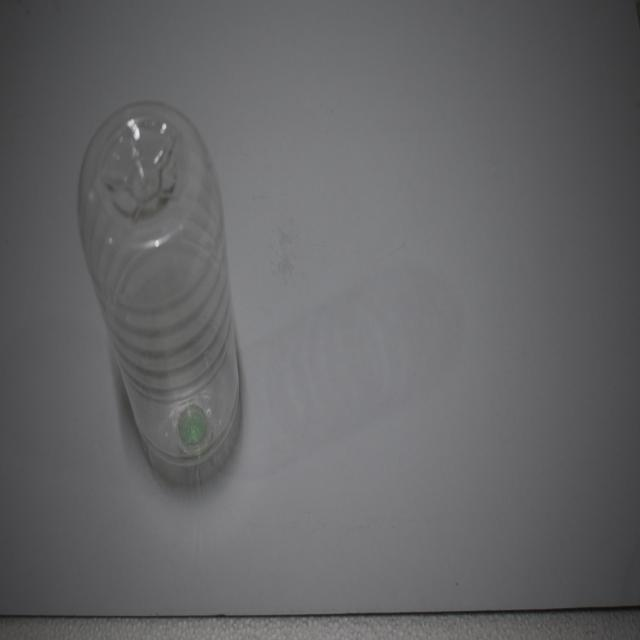bottle: (69, 91, 263, 490)
